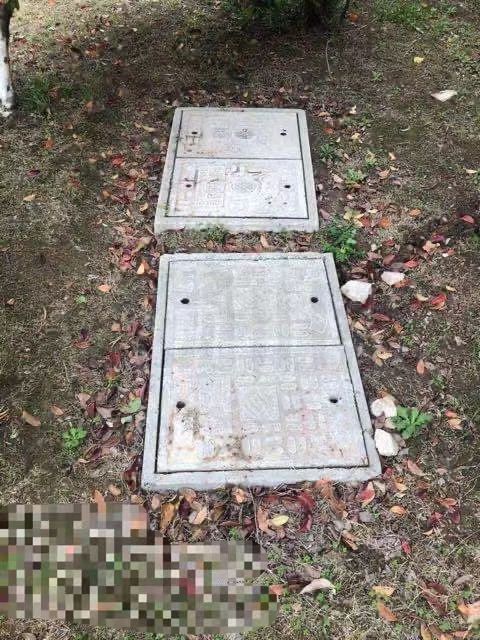well: (142, 251, 381, 483), (154, 105, 318, 224)
